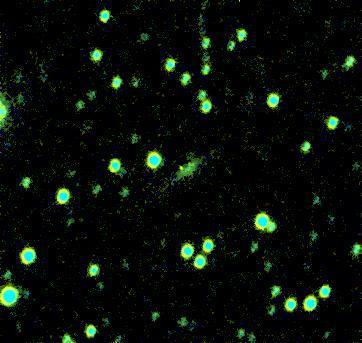star: (167, 149, 197, 179)
